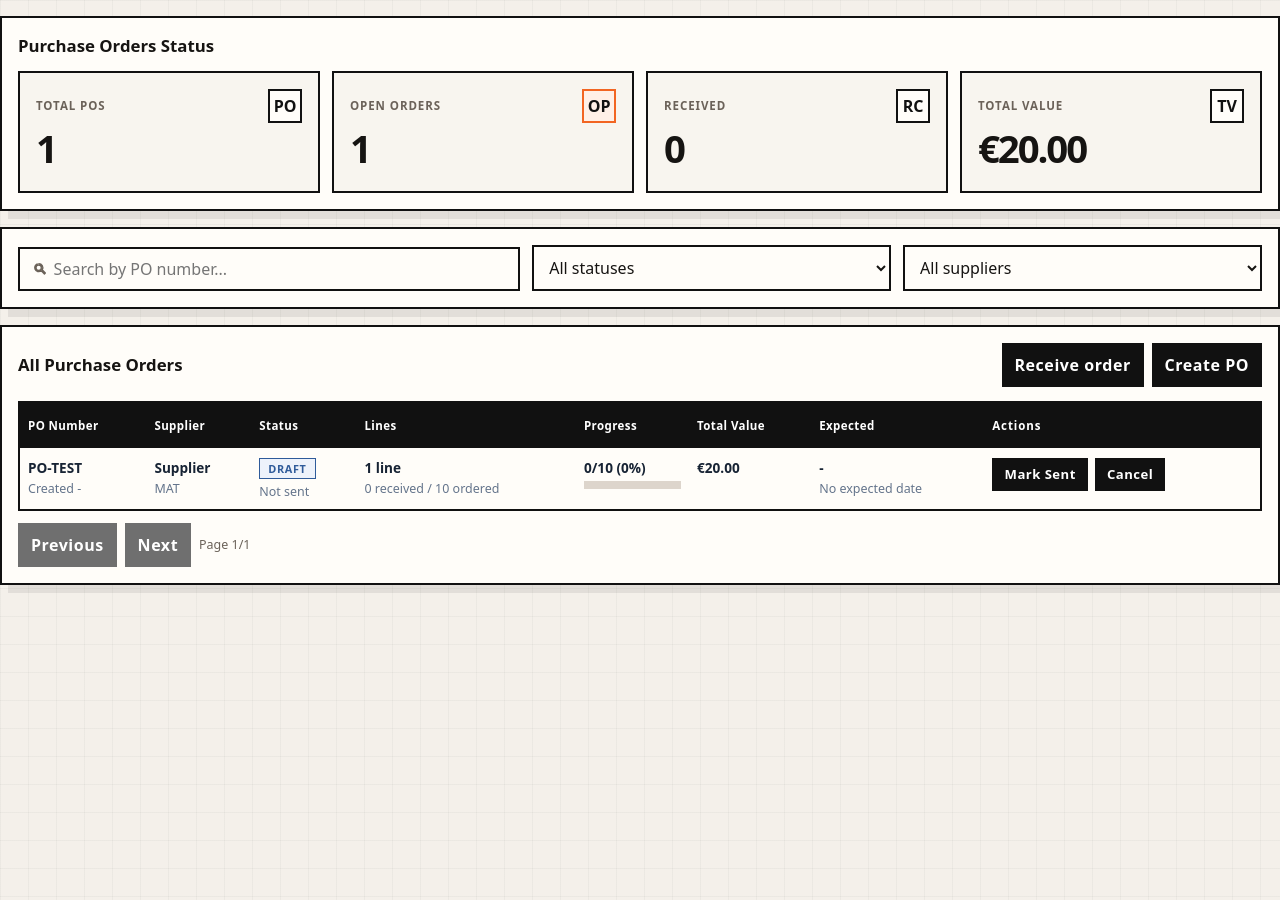
Test case: purchase order status feedback › uses a safe status error for unexpected rejection values (cancel=false)
Click the button "Mark Sent" at (1040, 474), box [992,458,1088,491]
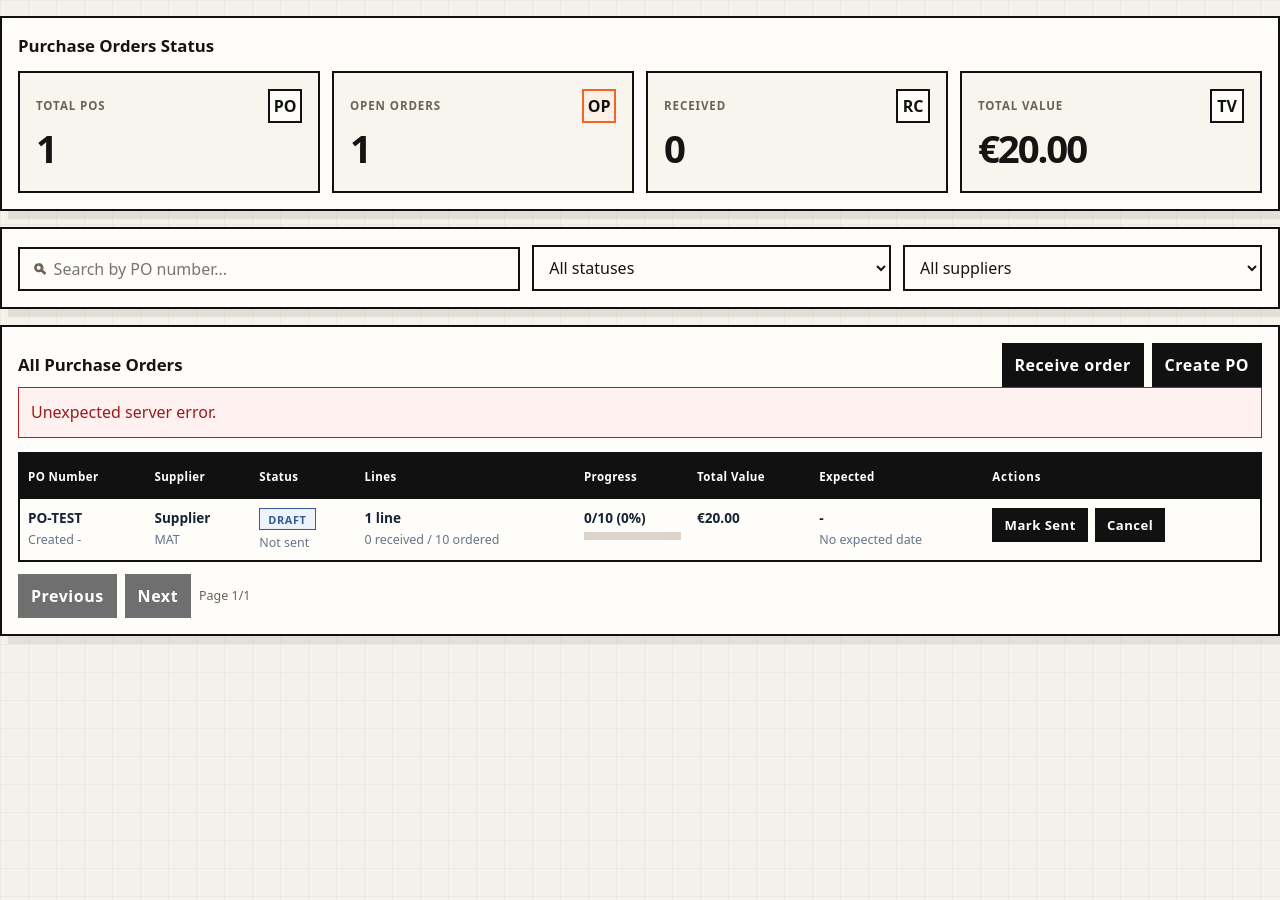
expect the message reads "Unexpected server error.": met, box [31,401,216,423]
